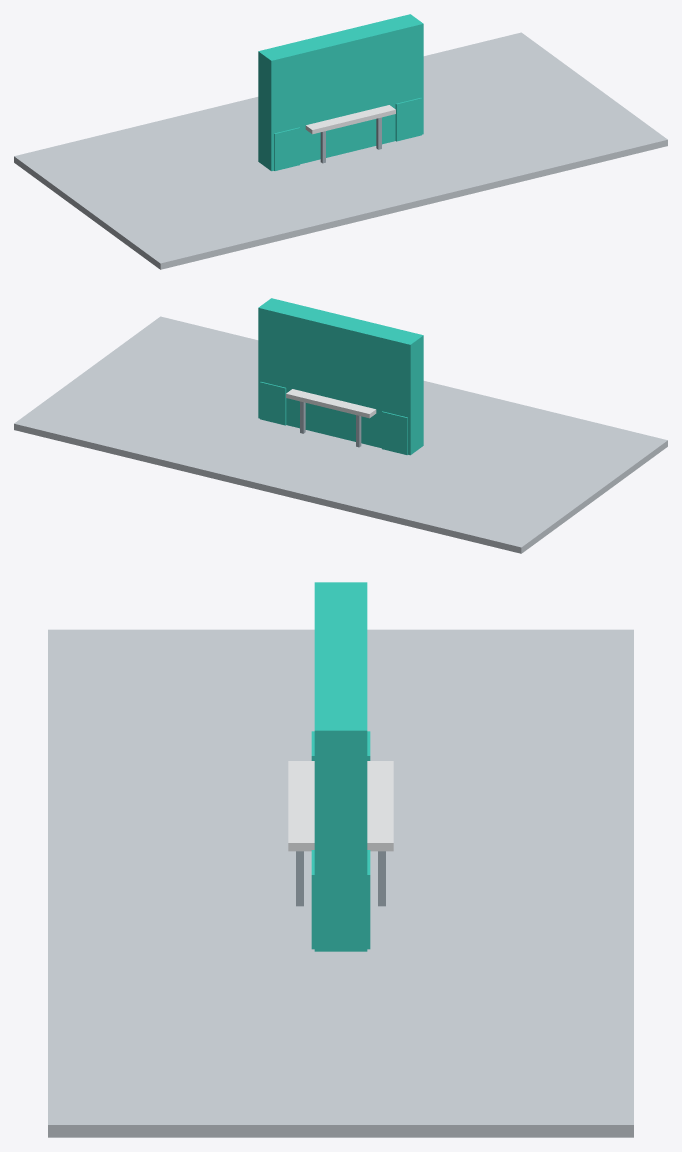
3 renders of one model, top to bottom at view 1: azimuth 30°, elevation 25°; view 2: azimuth 150°, elevation 25°; view 3: azimuth 270°, elevation 25°, orthographic. The views are drawn at different scales.
Visible parts, largest first — view 1: Exhibition Booth Concept; view 2: Exhibition Booth Concept; view 3: Exhibition Booth Concept.
Boxes of the visible parts, x1,y1,x2,y2 form: Exhibition Booth Concept: [14, 14, 667, 269]; Exhibition Booth Concept: [14, 298, 667, 553]; Exhibition Booth Concept: [48, 582, 633, 1137].
Size of the model in its own units: 10 by 2.2 by 5.
